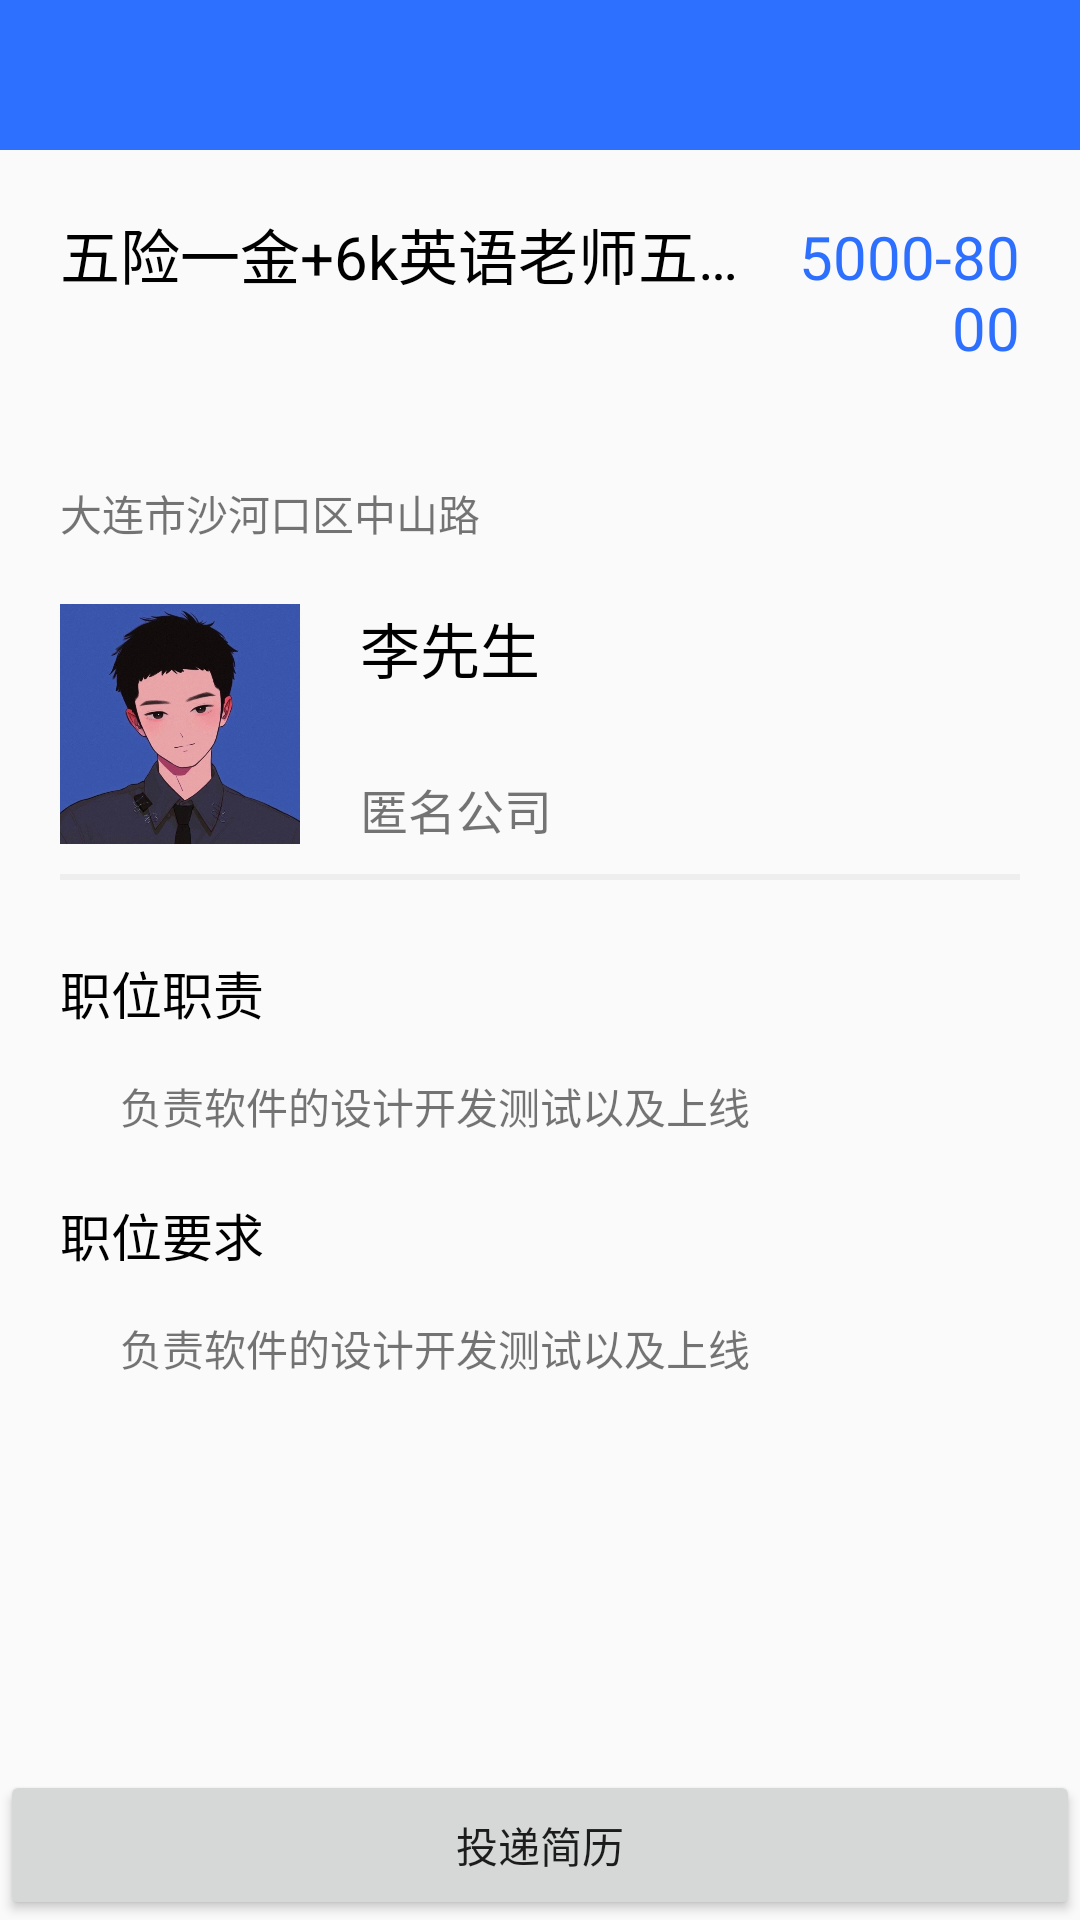

Named icons in this screenshot (1080x1920) and their centers, point (x, y):
avater: point (180, 724)
